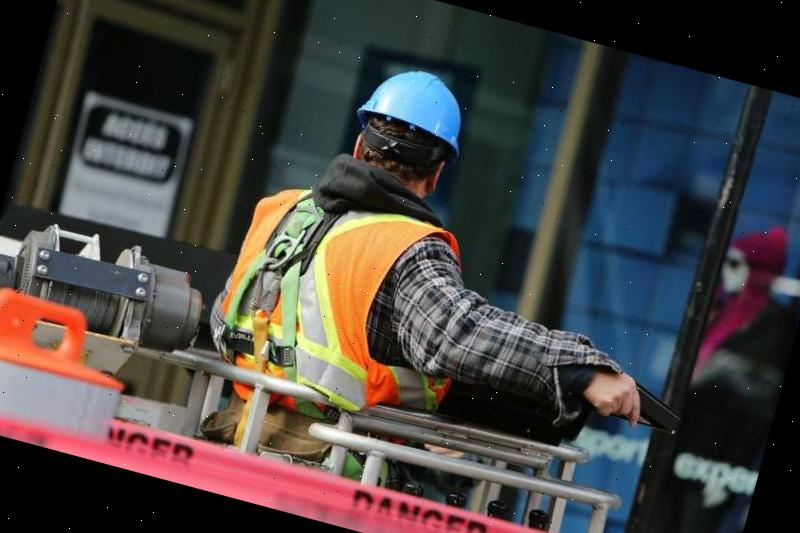helmet: (353, 57, 476, 151)
wear: (207, 172, 465, 426)
